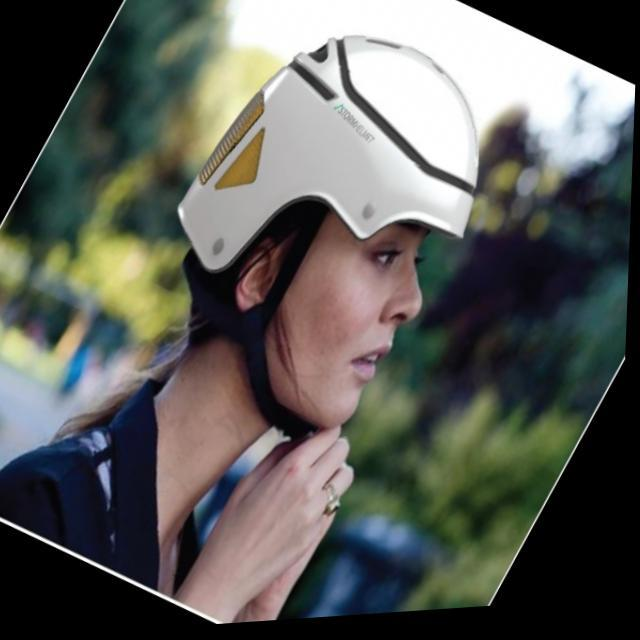Helmet: (174, 31, 481, 439)
